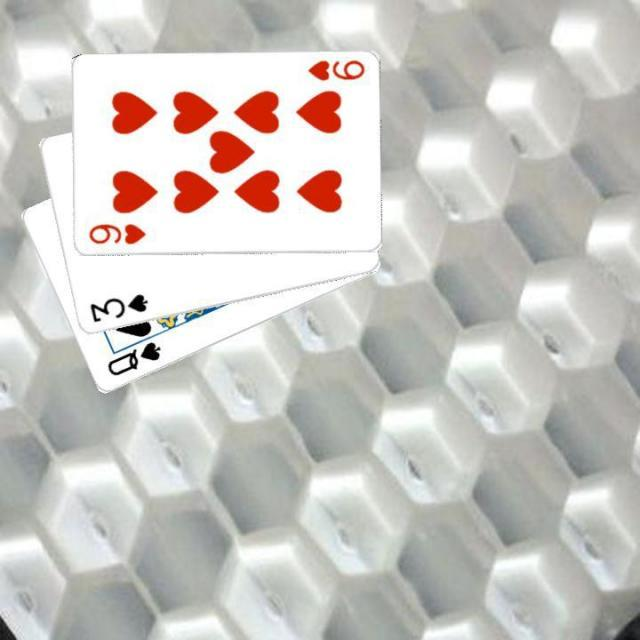3S: (86, 290, 150, 326)
9H: (303, 56, 365, 83), (84, 221, 148, 247)
QS: (103, 338, 163, 378)
